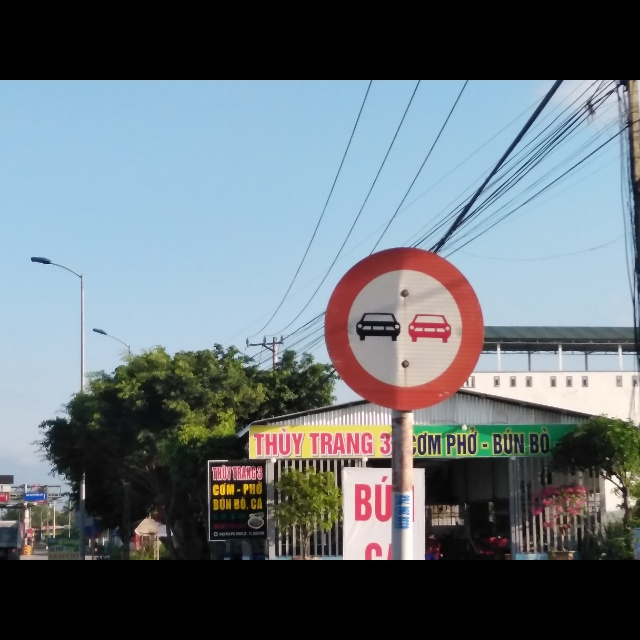Cấm vượt: (324, 242, 488, 414)
